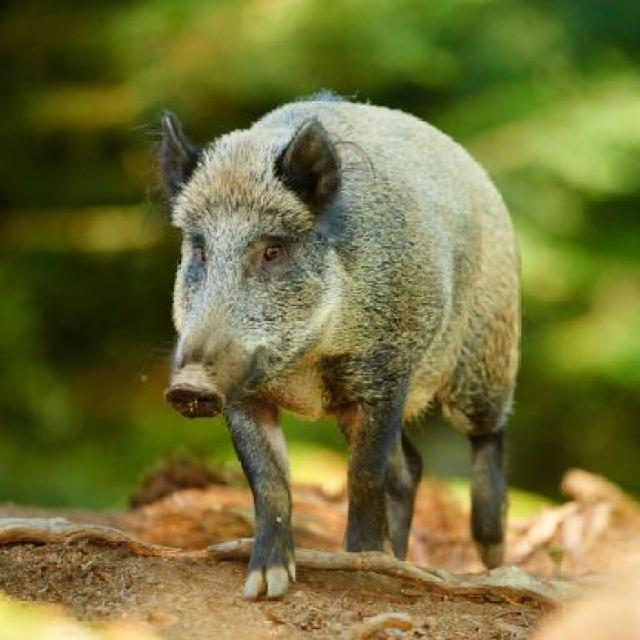wildboar: (152, 92, 526, 606)
